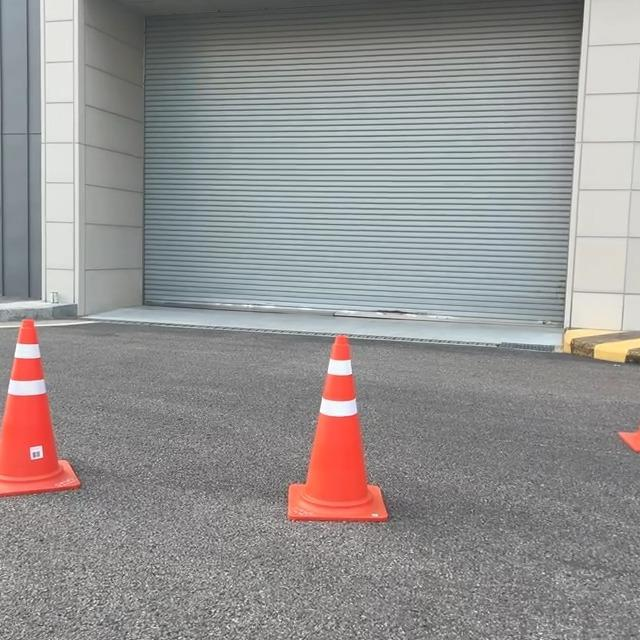fallen_object: (262, 325, 401, 544), (0, 300, 107, 502)
